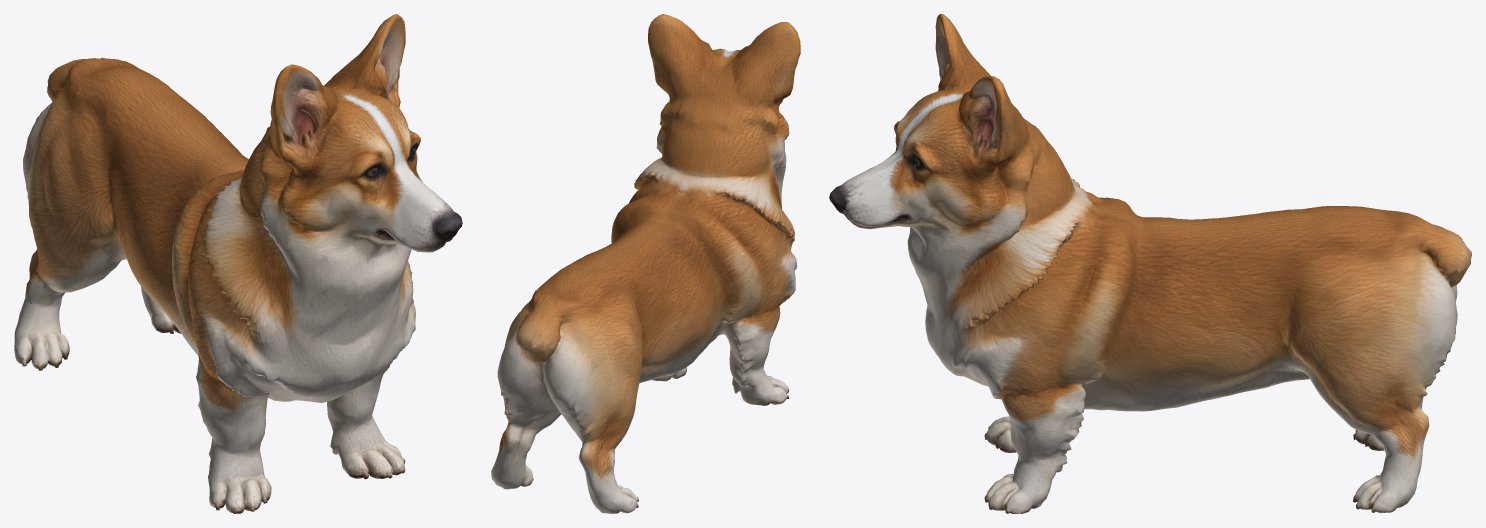
File: welsh.glb
3 renders of one model, left to right at view 1: azimuth 30°, elevation 25°; view 2: azimuth 150°, elevation 25°; view 3: azimuth 270°, elevation 25°, orthographic. The views are drawn at different scales.
Visible parts, largest first — view 1: tripo_node_f3ff88bf-baae-4e5b-952d-8b12b3d8a919; view 2: tripo_node_f3ff88bf-baae-4e5b-952d-8b12b3d8a919; view 3: tripo_node_f3ff88bf-baae-4e5b-952d-8b12b3d8a919.
Boxes of the visible parts, x1,y1,x2,y2 form: tripo_node_f3ff88bf-baae-4e5b-952d-8b12b3d8a919: (14, 14, 462, 513); tripo_node_f3ff88bf-baae-4e5b-952d-8b12b3d8a919: (491, 14, 800, 513); tripo_node_f3ff88bf-baae-4e5b-952d-8b12b3d8a919: (829, 14, 1471, 513).
Size of the model in its own units: 0.3342 by 0.7415 by 1.
Materials: 1 (1 with a texture image).
